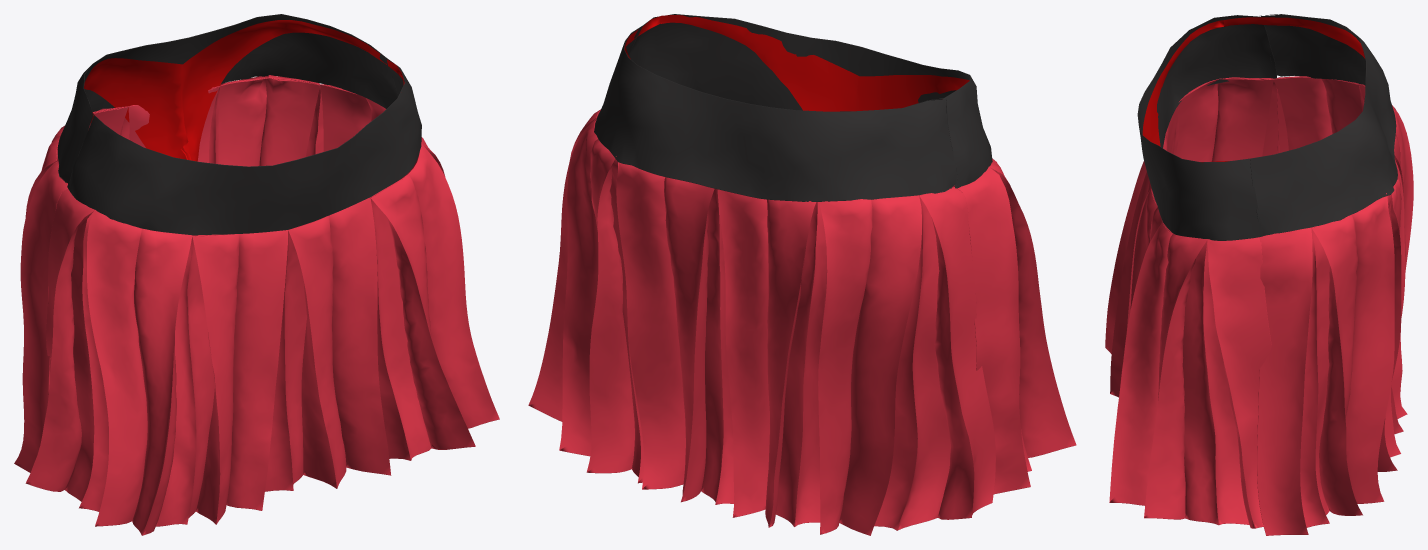
Rendered from mannequin-female-skirt.glb.
The picture shows the model from 3 angles, left to right: view 1: azimuth 30°, elevation 25°; view 2: azimuth 150°, elevation 25°; view 3: azimuth 270°, elevation 25°; orthographic projection. The views are drawn at different scales.
Parts seen in each view (by area): view 1: Pattern2D_194604, Pattern2D_194603, Pattern2D_194606, Pattern2D_194605, Pattern2D_151006, Pattern2D_150498; view 2: Pattern2D_194606, Pattern2D_194605, Pattern2D_194604, Pattern2D_194603, Pattern2D_148597, Pattern2D_149184; view 3: Pattern2D_194604, Pattern2D_194606, Pattern2D_194605, Pattern2D_194603, Pattern2D_151006, Pattern2D_149184.
Boxes of the visible parts, x1,y1,x2,y2 form: Pattern2D_194604: (25,137,499,535); Pattern2D_194603: (67,56,421,235); Pattern2D_194606: (14,75,408,472); Pattern2D_194605: (57,14,397,185); Pattern2D_151006: (84,58,191,160); Pattern2D_150498: (180,20,403,161); Pattern2D_194606: (528,109,995,535); Pattern2D_194605: (594,26,957,201); Pattern2D_194604: (953,158,1076,494); Pattern2D_194603: (629,14,992,188); Pattern2D_148597: (660,15,858,111); Pattern2D_149184: (855,75,969,111); Pattern2D_194604: (1105,77,1279,528); Pattern2D_194606: (1257,76,1413,535); Pattern2D_194605: (1250,14,1397,235); Pattern2D_194603: (1137,15,1276,240); Pattern2D_151006: (1223,17,1364,58); Pattern2D_149184: (1142,20,1227,146).
Size of the model in its own units: 0.7428 by 0.6152 by 0.4596.
